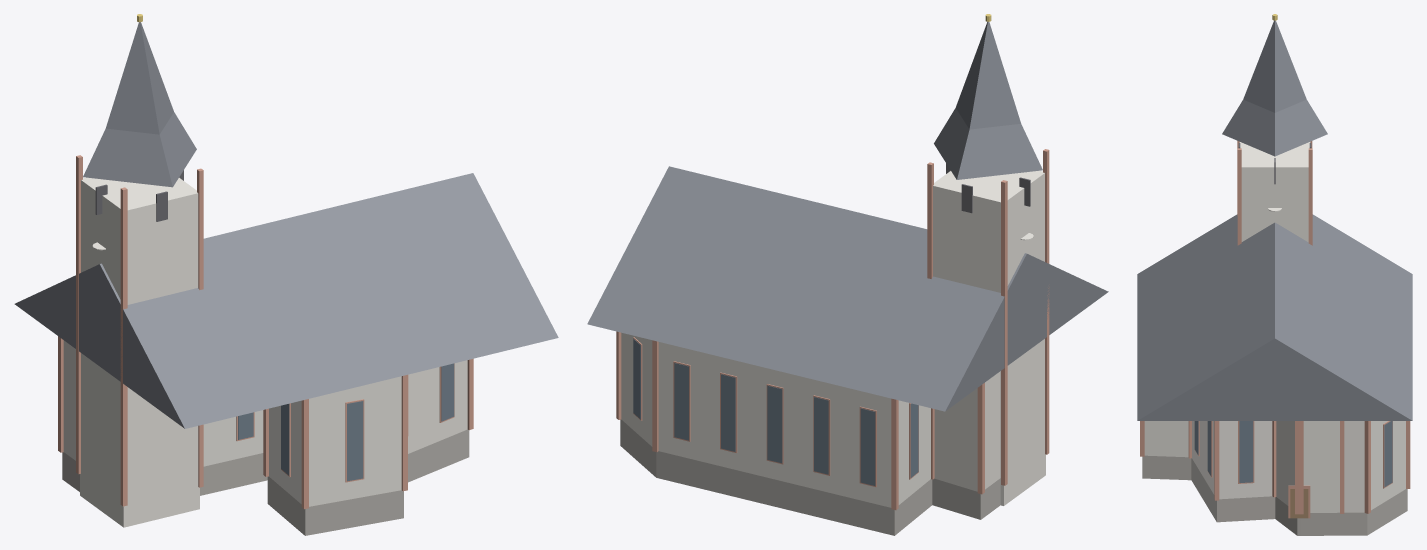
Rendered from muellheim-martinskirche.glb.
The picture shows the model from 3 angles, left to right: view 1: azimuth 30°, elevation 25°; view 2: azimuth 150°, elevation 25°; view 3: azimuth 270°, elevation 25°; orthographic projection. The views are drawn at different scales.
Parts seen in each view (by area): view 1: building; view 2: building; view 3: building.
Boxes of the visible parts, left/top/right/bottom form: building: left=14, top=14, right=558, bottom=535; building: left=587, top=14, right=1108, bottom=535; building: left=1137, top=14, right=1412, bottom=535.
Size of the model in its own units: 35.91 by 42.8 by 27.22.
